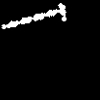half_double_crochet: (2, 3, 65, 28)
